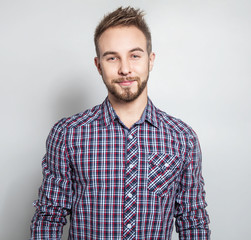young: (88, 11, 163, 105)
